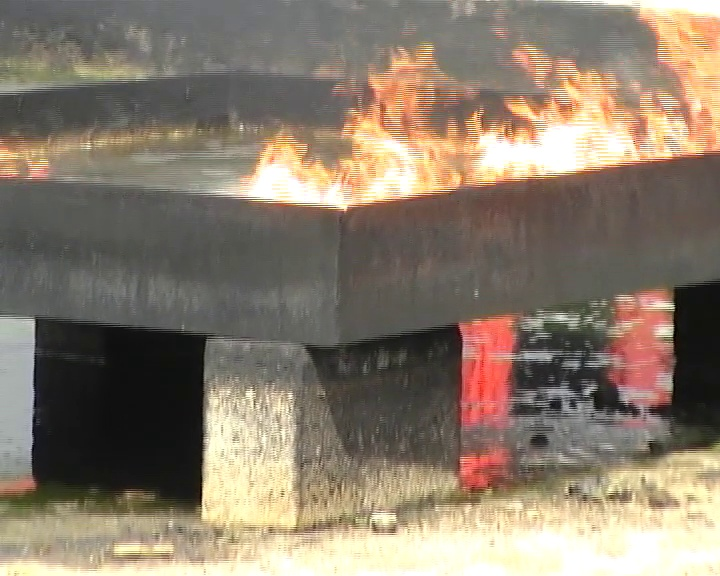fire: (256, 10, 720, 205)
